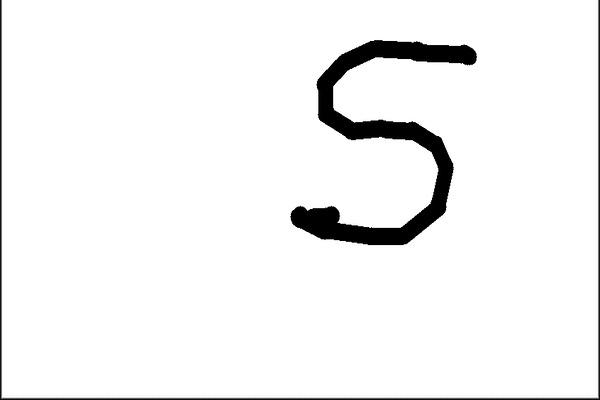S: (274, 33, 483, 254)
